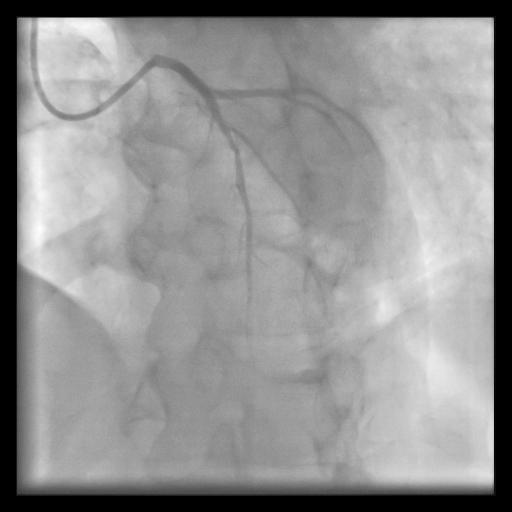Stenosis: (225, 125, 243, 185)
